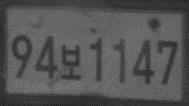1: (88, 36, 104, 84), (111, 37, 126, 86)
4: (131, 38, 155, 86), (33, 35, 58, 79)
7: (156, 38, 179, 87)
9: (11, 33, 33, 79)
보: (59, 42, 83, 82)
